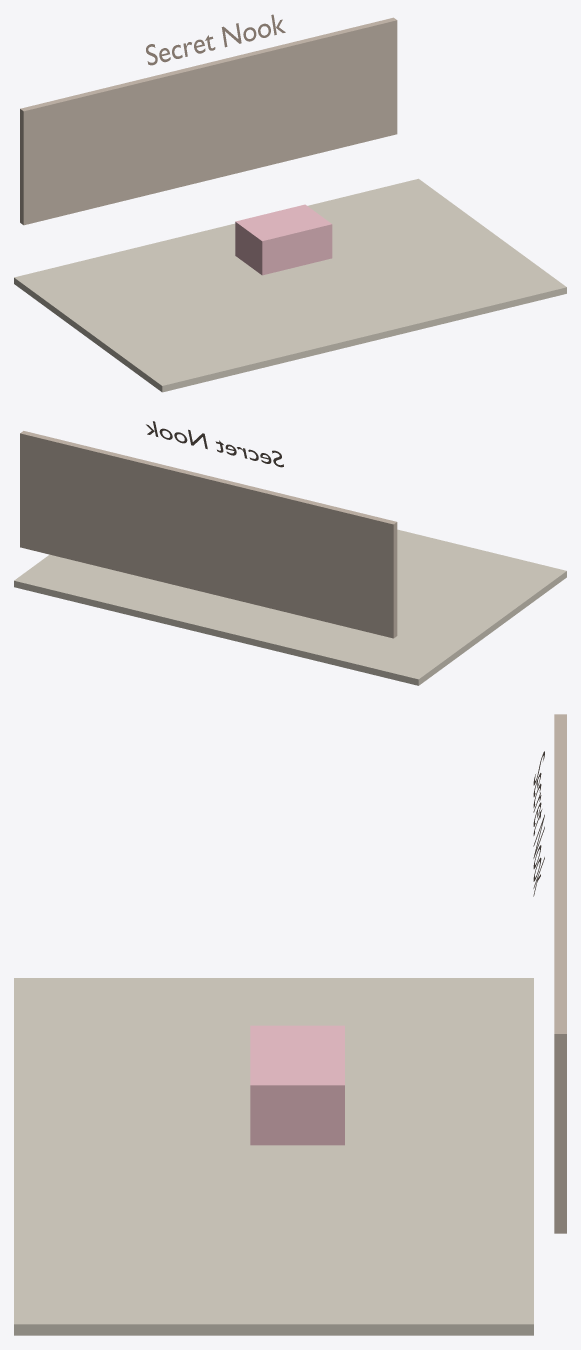
The model's file is 11_sub_scenes.glb.
3 renders of one model, top to bottom at view 1: azimuth 30°, elevation 25°; view 2: azimuth 150°, elevation 25°; view 3: azimuth 270°, elevation 25°, orthographic. The views are drawn at different scales.
Visible parts, largest first — view 1: PaperFloor-col, BackCard, SecretNook, TitleLabel; view 2: BackCard, PaperFloor-col, TitleLabel; view 3: PaperFloor-col, SecretNook, BackCard.
Part boxes in pixels (x1,y1,x2,y2): PaperFloor-col: (14,178,566,392); BackCard: (20,17,397,225); SecretNook: (235,204,332,275); TitleLabel: (146,14,285,65); BackCard: (20,431,397,638); PaperFloor-col: (14,529,566,685); TitleLabel: (146,421,283,467); PaperFloor-col: (14,978,533,1335); SecretNook: (250,1025,344,1145); BackCard: (554,714,566,1233).
Size of the model in its own units: 5.2 by 2.5 by 3.51.
